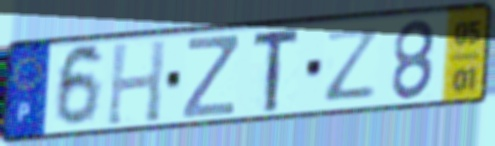6: (49, 41, 109, 133)
8: (388, 16, 436, 103)
H: (104, 37, 169, 128)
T: (250, 24, 304, 116)
Z: (180, 33, 240, 122), (324, 25, 384, 104)
